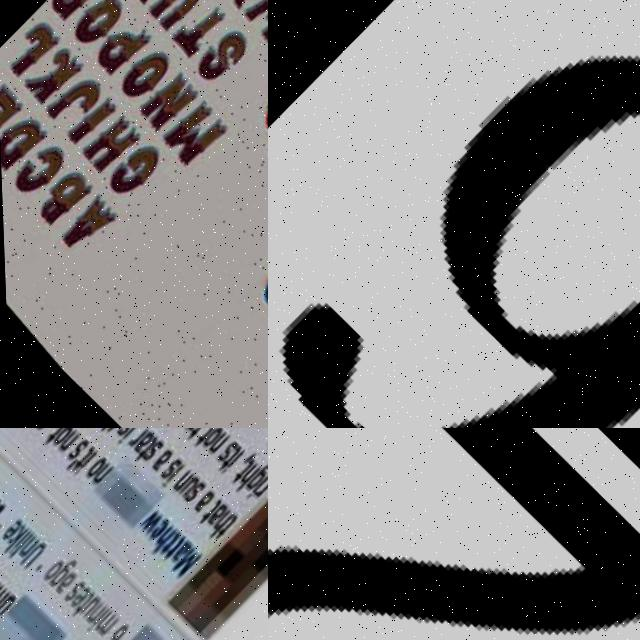2: (268, 428, 640, 640), (96, 622, 127, 640)
6: (268, 0, 640, 428)
A: (144, 448, 174, 477), (186, 489, 215, 518), (126, 428, 156, 456), (49, 569, 77, 597), (202, 503, 227, 527), (167, 541, 190, 563)
E: (142, 518, 169, 545), (64, 587, 89, 610), (0, 517, 22, 541)
G: (44, 558, 76, 590), (240, 462, 268, 494)
H: (227, 462, 261, 495), (145, 526, 176, 555), (202, 510, 233, 539)
I: (156, 463, 184, 490), (80, 607, 108, 633), (2, 530, 30, 556), (70, 450, 97, 475), (242, 475, 268, 500), (219, 450, 243, 472), (114, 428, 139, 444)
K: (0, 523, 27, 554)
L: (4, 533, 32, 559)
M: (166, 547, 200, 579), (91, 611, 116, 635), (0, 584, 9, 611)
N: (87, 462, 113, 487), (54, 429, 80, 454), (167, 471, 192, 495), (80, 602, 105, 625), (203, 434, 228, 457), (14, 535, 38, 558)
O: (81, 455, 107, 480), (37, 559, 62, 584), (197, 428, 224, 450), (48, 428, 73, 448)
R: (248, 476, 268, 500), (126, 428, 147, 446), (182, 428, 205, 433)
S: (58, 579, 83, 605), (213, 439, 239, 464), (64, 438, 89, 463), (180, 481, 205, 505), (156, 458, 181, 482), (139, 440, 163, 465), (112, 428, 140, 439)
T: (65, 591, 93, 618), (68, 445, 96, 472), (214, 447, 242, 473), (209, 517, 236, 542), (228, 460, 253, 485), (154, 533, 180, 557), (131, 438, 157, 462), (195, 501, 220, 525), (160, 538, 183, 560), (191, 428, 217, 446), (40, 428, 67, 445), (182, 428, 208, 440), (102, 428, 128, 434)
U: (14, 541, 45, 571), (176, 476, 199, 498), (76, 596, 98, 617), (0, 593, 15, 618)
W: (134, 508, 163, 536)
